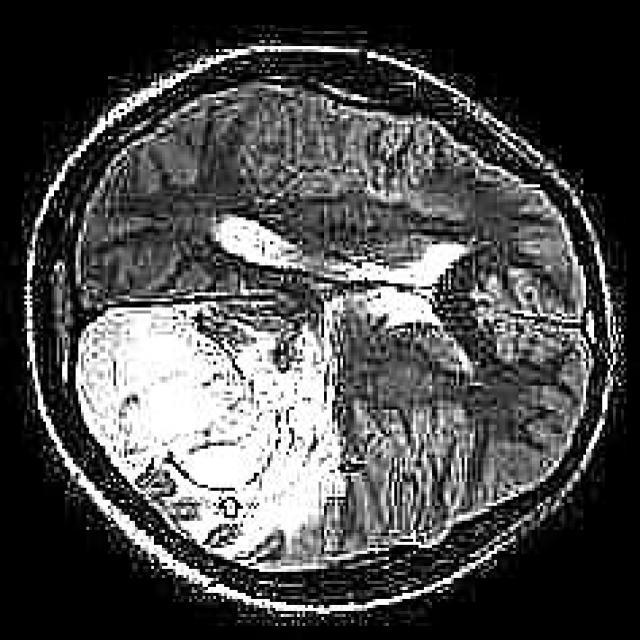tumor: (76, 300, 343, 568)
